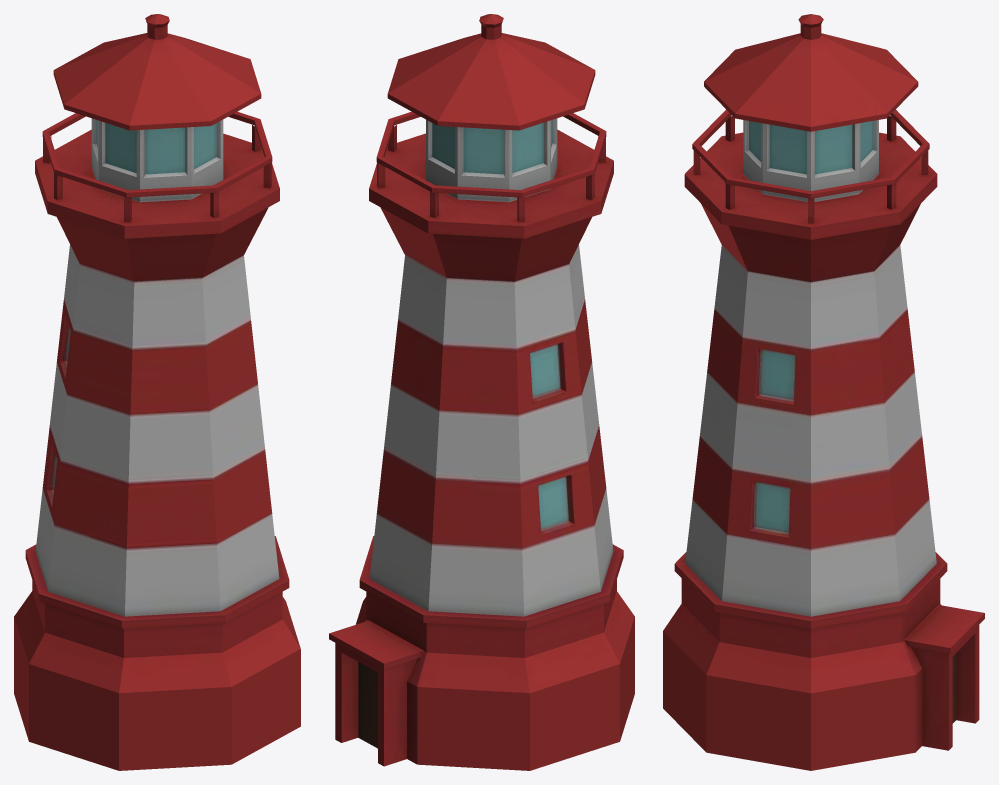
File: lighthouse.glb
3 views of the same model, side by side, from view 1: azimuth 30°, elevation 25°; view 2: azimuth 150°, elevation 25°; view 3: azimuth 270°, elevation 25° (orthographic).
Parts seen in each view (by area): view 1: Lighthouse; view 2: Lighthouse; view 3: Lighthouse.
Part boxes in pixels (bbox=[...]): Lighthouse: bbox=[14, 14, 300, 770]; Lighthouse: bbox=[329, 14, 634, 770]; Lighthouse: bbox=[663, 14, 984, 770].
Bounding box in the file's own units: 13.83 × 35.81 × 15.04.
Materials: 1 (1 with a texture image).
